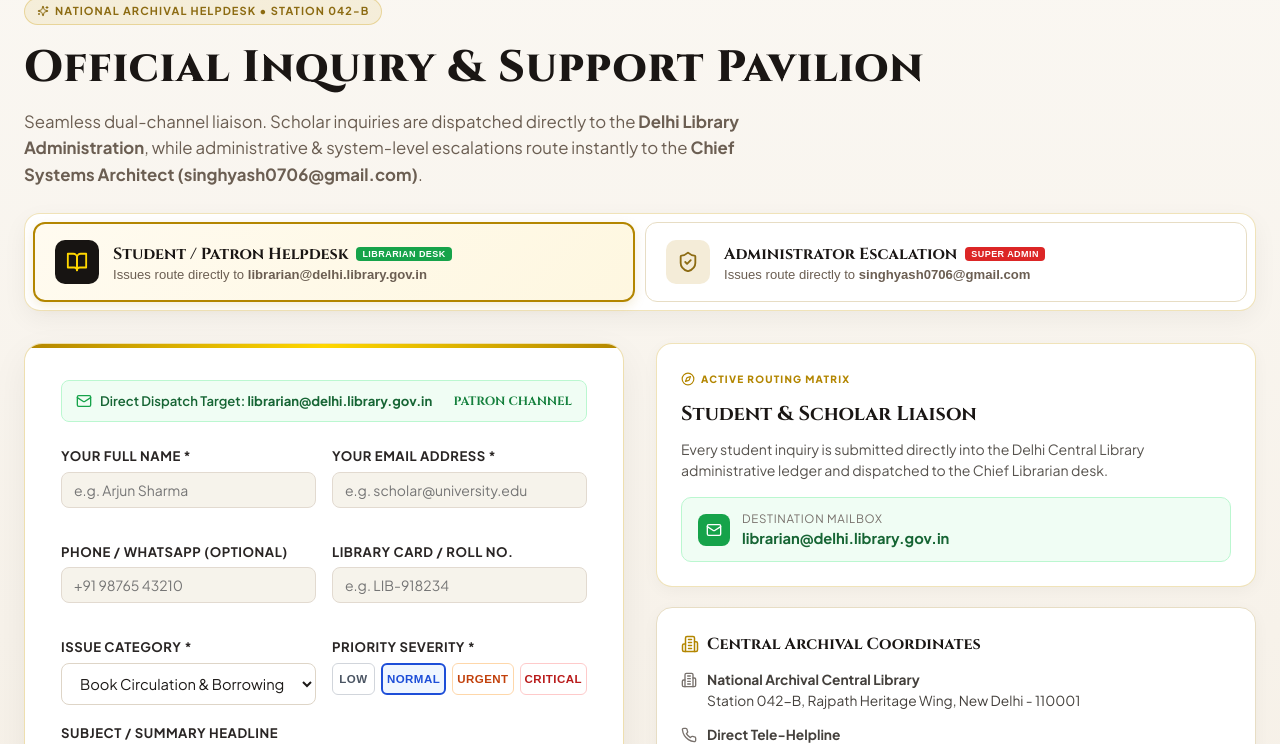
Test: Contact & Archival Role-Based Routing › routes administrator issues directly to singhyash0706@gmail.com
This screenshot has width=1280, height=744.
# Switch to Admin
Click the button "Administrator Escalation" at [946, 262], box [645,222,1247,302]
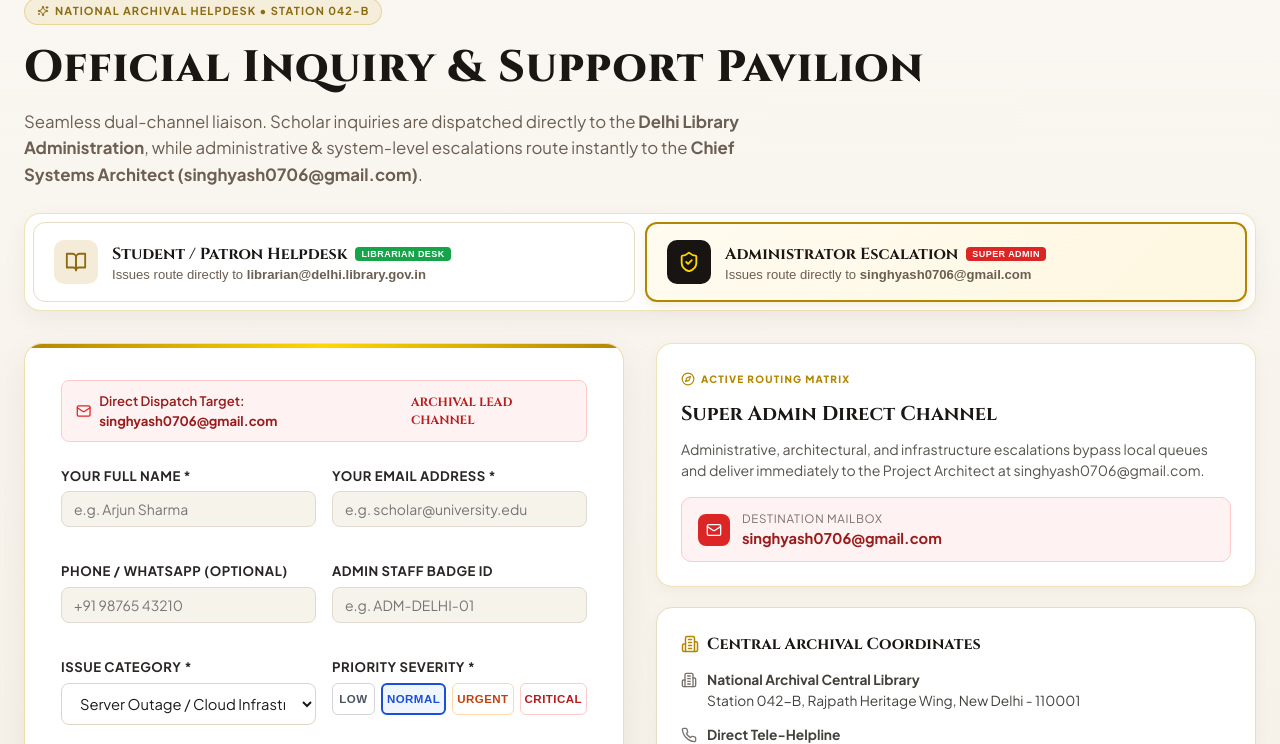
Type "Dr. Vikramaditya Sen" into the field with placeholder "e.g. Arjun Sharma" at [188, 509], box [61,491,316,527]
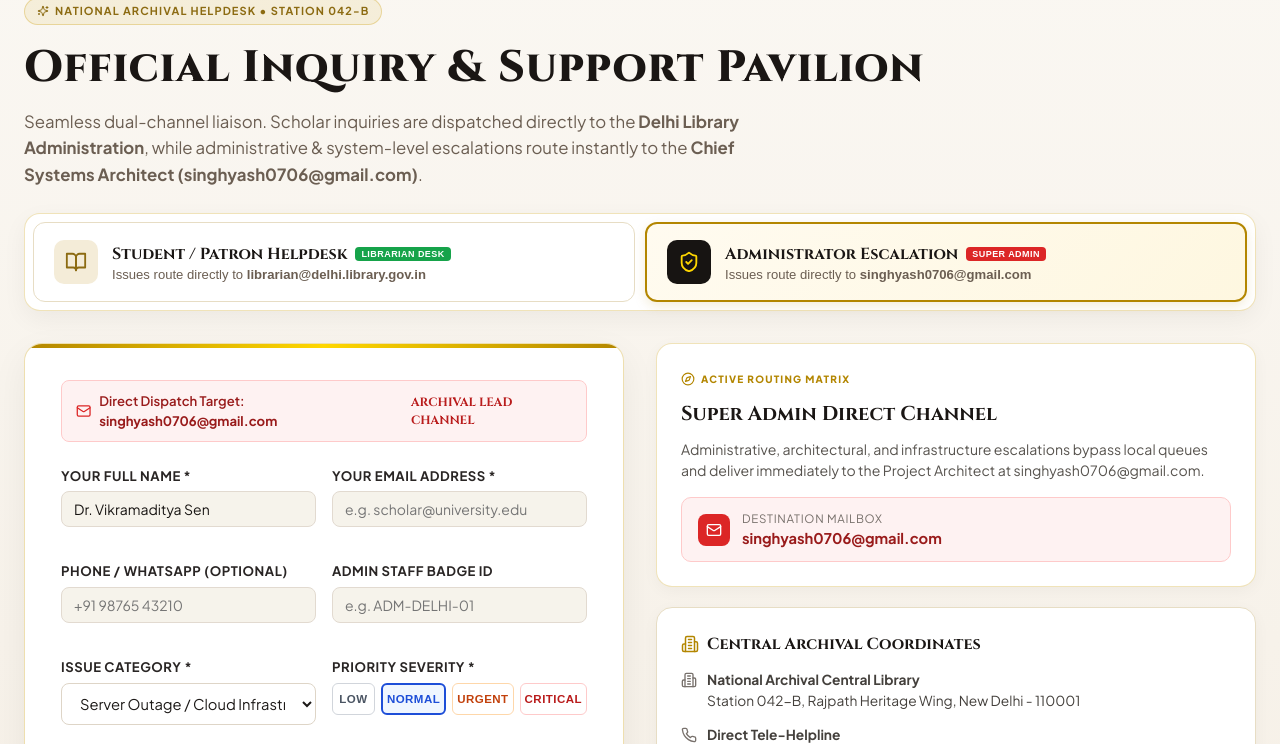
Type "librarian@delhi.library.gov.in" into the field with placeholder "e.g. scholar@university.edu" at [460, 509], box [332,491,587,527]
(page scrolled)
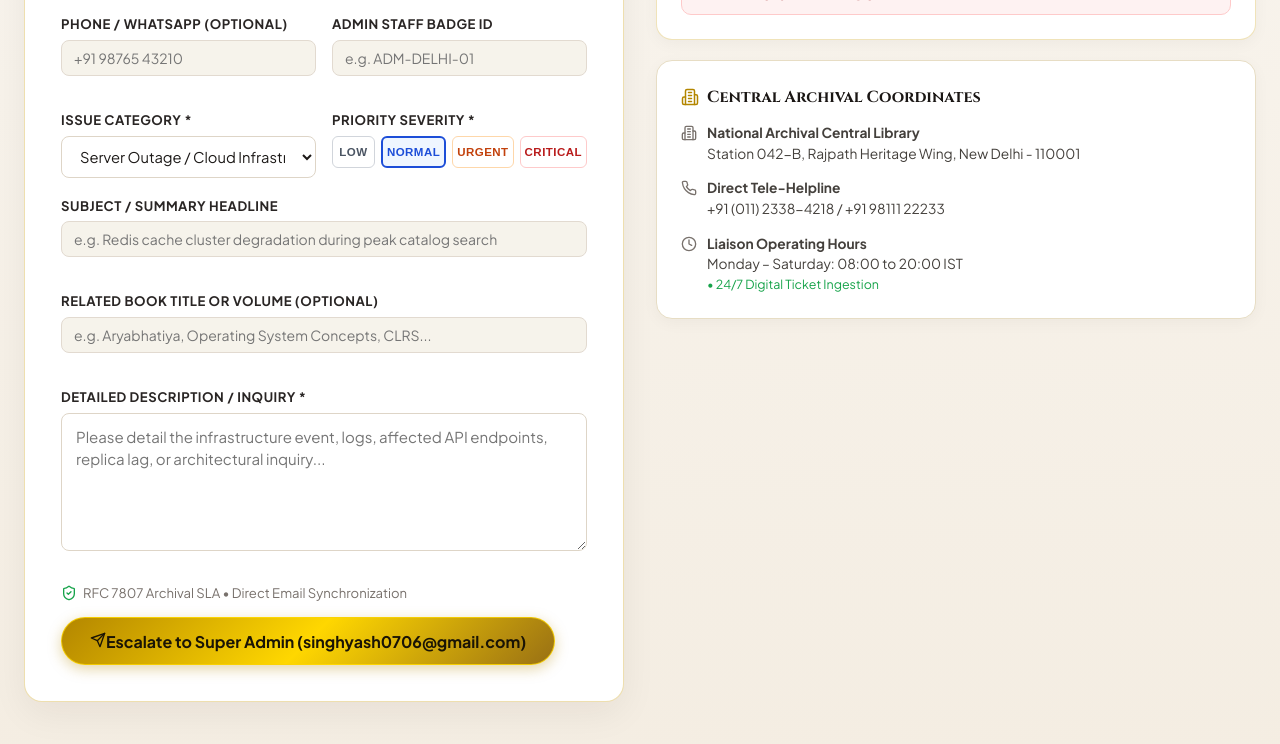
Replace the text in the text box with placeholder "Please detail the infrastructure event" with "Database replica synchronization timeout on cluster shard 2." at [324, 482], box [61,413,587,551]
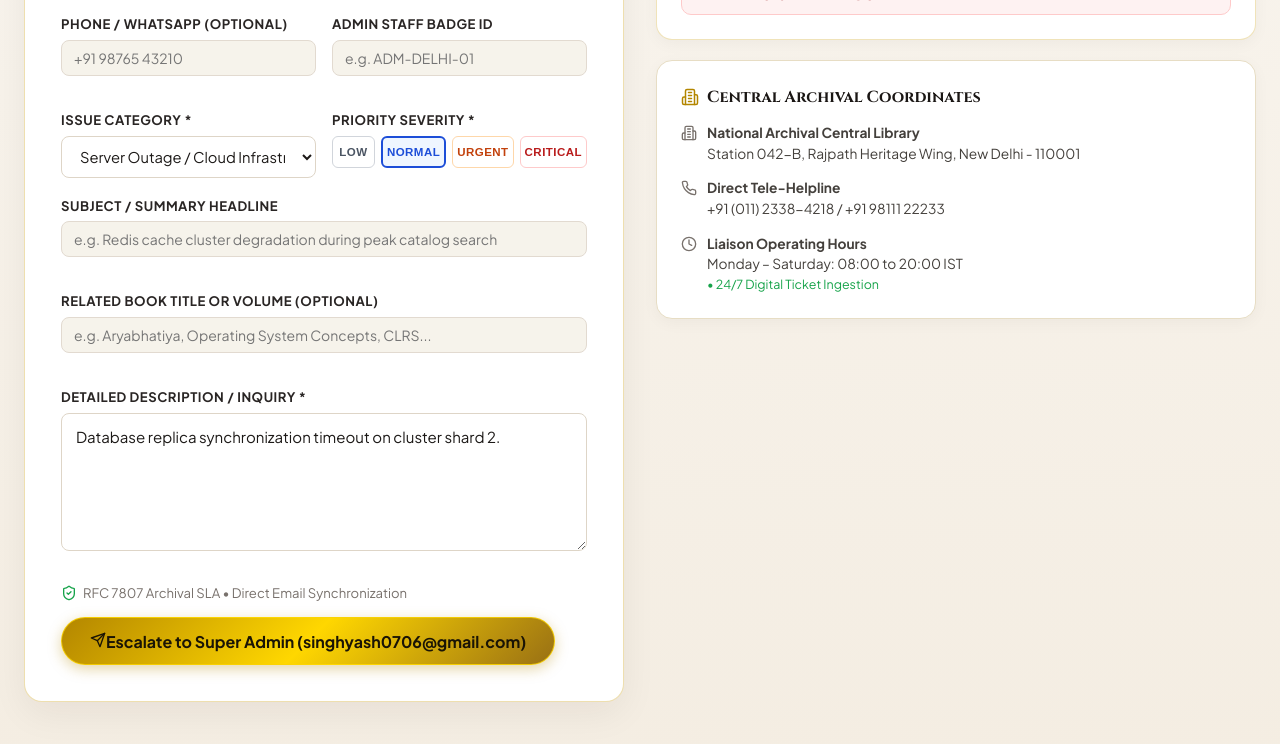
Click the button "Escalate to Super Admin (singhyash0706@gmail.com)" at [308, 641], box [61,617,555,665]
(page scrolled)
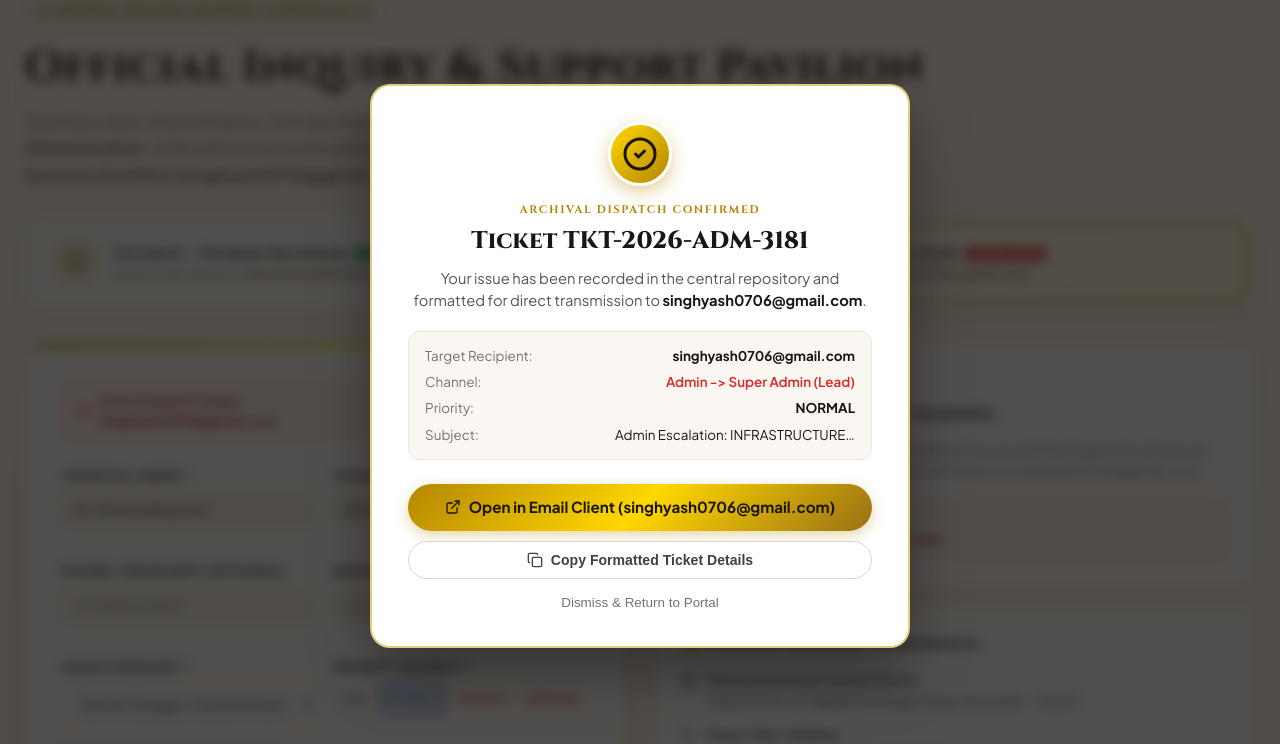
Expected: the text "singhyash0706@gmail.com" below "Chief Systems Architect (" is shown, [860,267,1031,282]
Expected: the text "ARCHIVAL DISPATCH CONFIRMED" is shown, [520,202,760,218]
